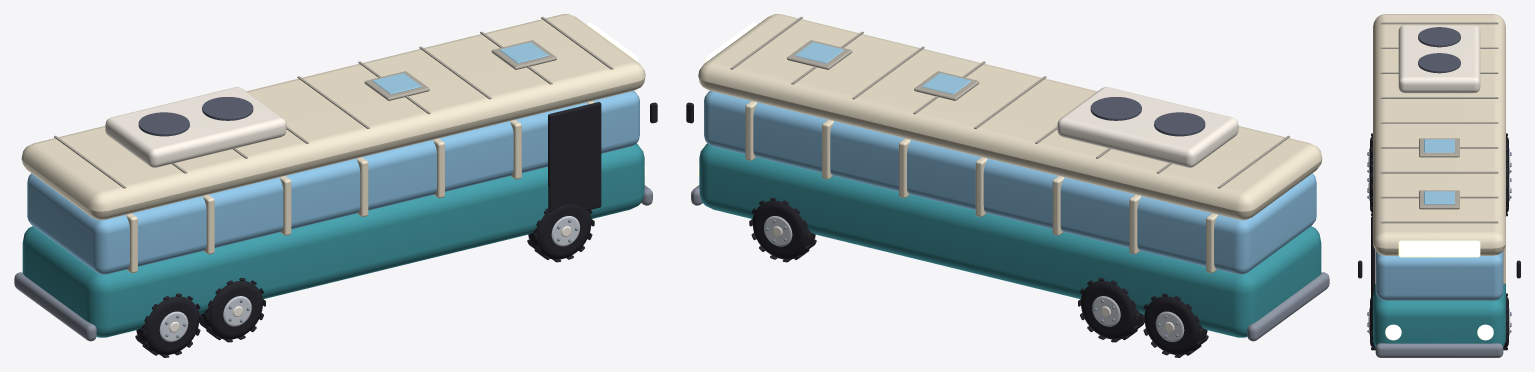
Rendered from bus.glb.
The picture shows the model from 3 angles, left to right: view 1: azimuth 30°, elevation 25°; view 2: azimuth 150°, elevation 25°; view 3: azimuth 270°, elevation 25°; orthographic projection. The views are drawn at different scales.
Parts seen in each view (by area): view 1: bus; view 2: bus; view 3: bus.
Part boxes in pixels (x1,y1,x2,y2): bus: [14, 14, 657, 357]; bus: [686, 14, 1329, 357]; bus: [1358, 14, 1520, 357].
Bounding box in the file's own units: 10.7 × 3.54 × 3.18.
Materials: 1 (1 with a texture image).
